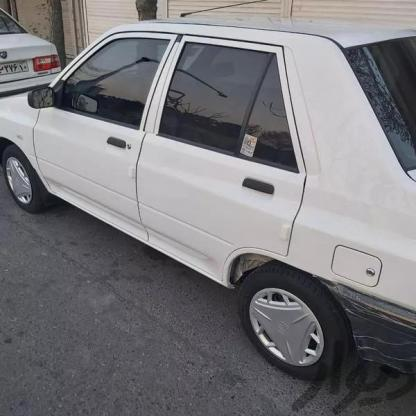Car: (0, 0, 416, 376), (0, 1, 78, 96)
